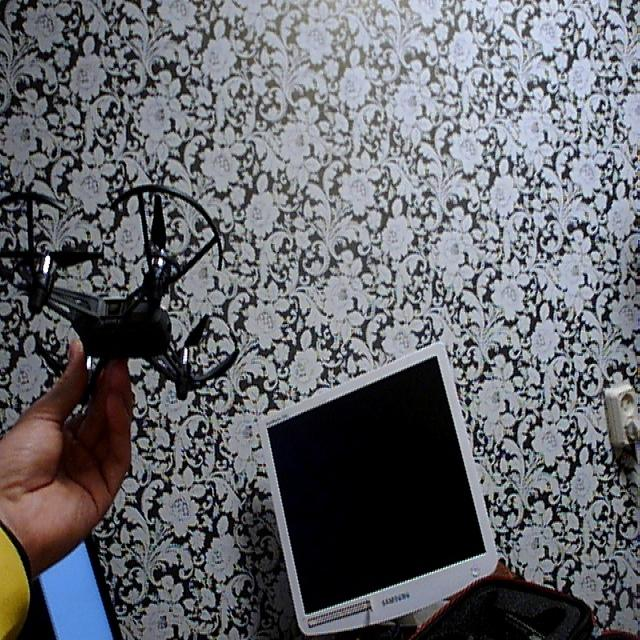drone: (0, 168, 264, 432)
